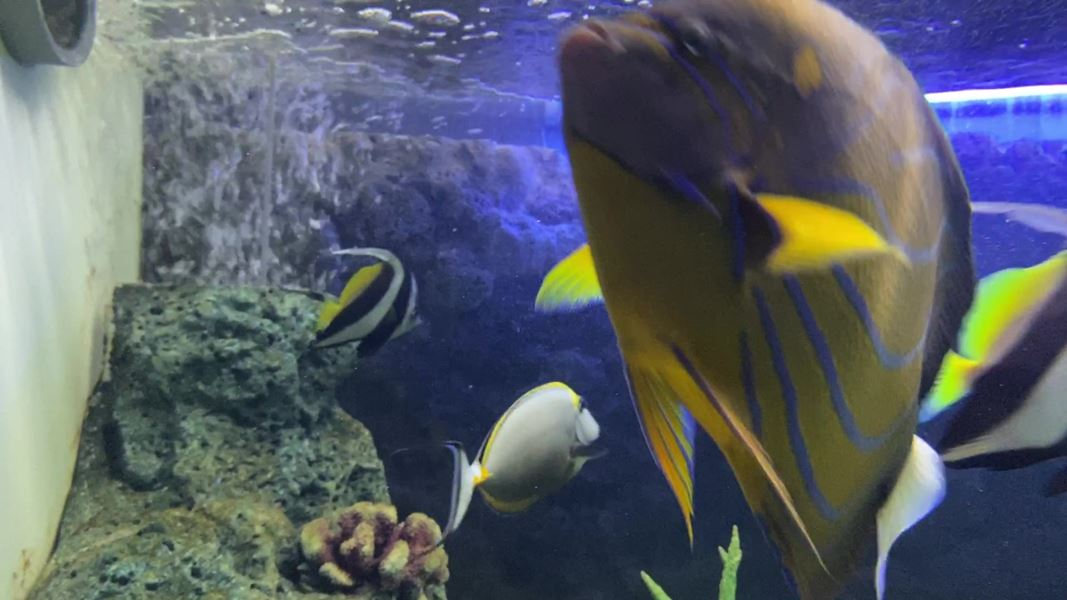Blue ring angelfish: (529, 7, 981, 600)
